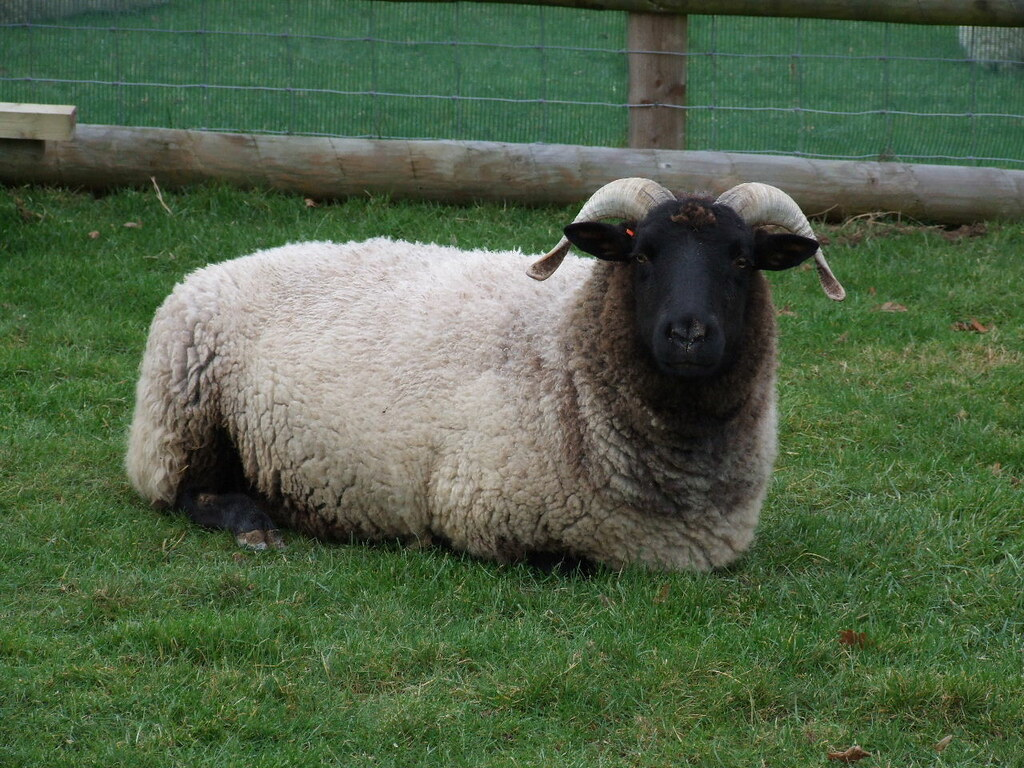sheep: (119, 169, 833, 598)
